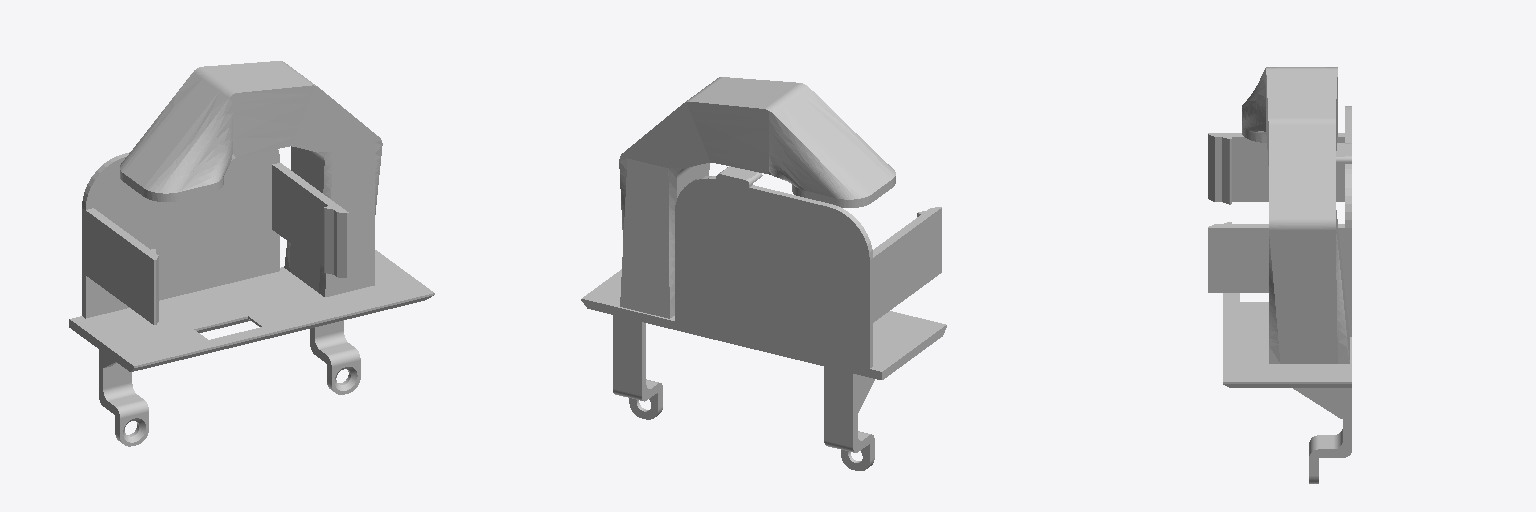
Rendered from Encaixe honeywell.obj.
3 views of the same model, side by side, from view 1: azimuth 30°, elevation 25°; view 2: azimuth 150°, elevation 25°; view 3: azimuth 270°, elevation 25° (orthographic).
Bounding box in the file's own units: 72.5 × 80.34 × 30.2.